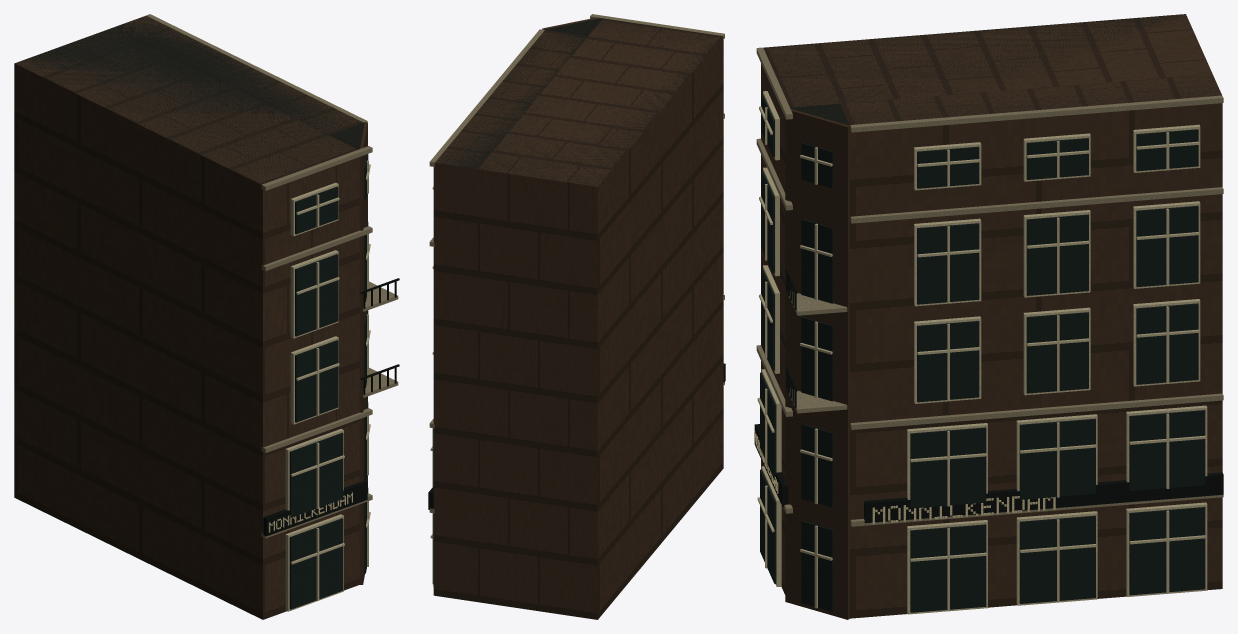
The picture shows the model from 3 angles, left to right: view 1: azimuth 30°, elevation 25°; view 2: azimuth 150°, elevation 25°; view 3: azimuth 270°, elevation 25°; orthographic projection. The views are drawn at different scales.
Visible parts, largest first — view 1: monnickendam-hoogstraat-0, monnickendam-hoogstraat-1, monnickendam-hoogstraat-3, monnickendam-hoogstraat-2, monnickendam-hoogstraat-4, monnickendam-hoogstraat-5; view 2: monnickendam-hoogstraat-0, monnickendam-hoogstraat-1, monnickendam-hoogstraat-4; view 3: monnickendam-hoogstraat-0, monnickendam-hoogstraat-3, monnickendam-hoogstraat-2, monnickendam-hoogstraat-1, monnickendam-hoogstraat-4, monnickendam-hoogstraat-5, monnickendam-hoogstraat-6.
Part boxes in pixels (x1,y1,x2,y2): monnickendam-hoogstraat-0: (14,15,367,619); monnickendam-hoogstraat-1: (15,16,364,184); monnickendam-hoogstraat-3: (289,154,368,609); monnickendam-hoogstraat-2: (285,160,370,611); monnickendam-hoogstraat-4: (146,14,398,538); monnickendam-hoogstraat-5: (263,278,399,536); monnickendam-hoogstraat-0: (433,17,723,619); monnickendam-hoogstraat-1: (435,18,722,186); monnickendam-hoogstraat-4: (429,14,724,513); monnickendam-hoogstraat-0: (761,14,1222,619); monnickendam-hoogstraat-3: (760,94,1205,612); monnickendam-hoogstraat-2: (757,91,1207,614); monnickendam-hoogstraat-1: (763,14,1221,125); monnickendam-hoogstraat-4: (756,47,1223,526); monnickendam-hoogstraat-5: (754,269,1223,523); monnickendam-hoogstraat-6: (754,431,1055,524).
Bounding box in the file's own units: 8.67 × 16.9 × 14.6.
7 materials, 7 textured.
